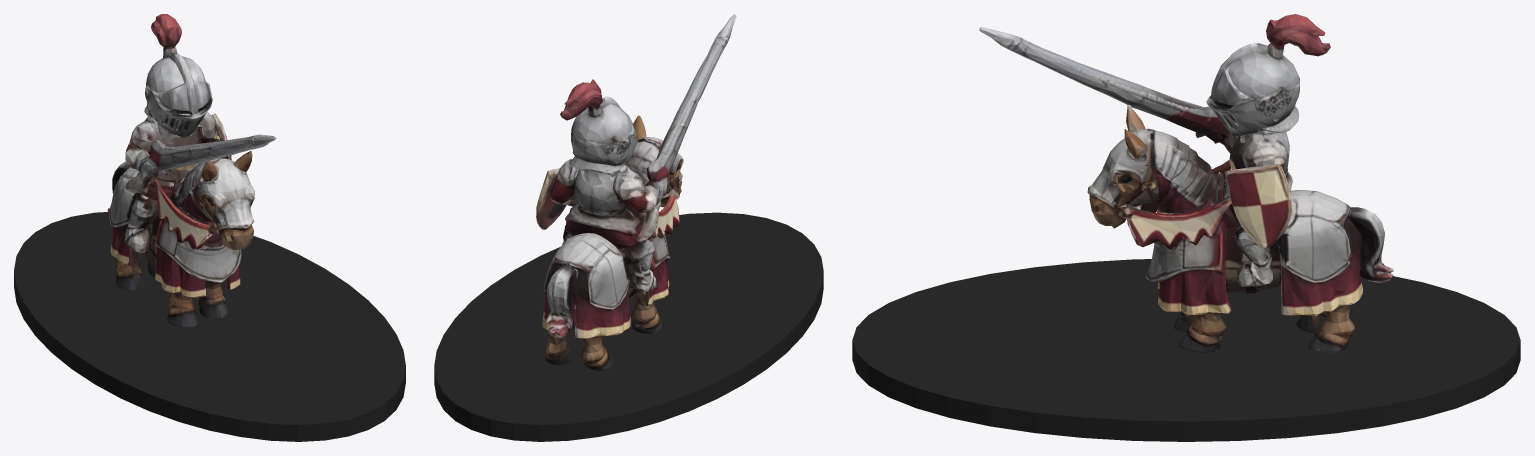
Rendered from freeguild-cavalier.glb.
3 renders of one model, left to right at view 1: azimuth 30°, elevation 25°; view 2: azimuth 150°, elevation 25°; view 3: azimuth 270°, elevation 25°, orthographic. The views are drawn at different scales.
Visible parts, largest first — view 1: base, figure; view 2: base, figure; view 3: base, figure.
Boxes of the visible parts, bbox=[...] form: base: bbox=[14, 212, 405, 441]; figure: bbox=[107, 14, 275, 327]; base: bbox=[434, 212, 823, 441]; figure: bbox=[536, 14, 736, 370]; base: bbox=[852, 259, 1520, 441]; figure: bbox=[979, 14, 1393, 352].
Bounding box in the file's own units: 2.05 × 2.02 × 3.54.
2 materials, 1 textured.
